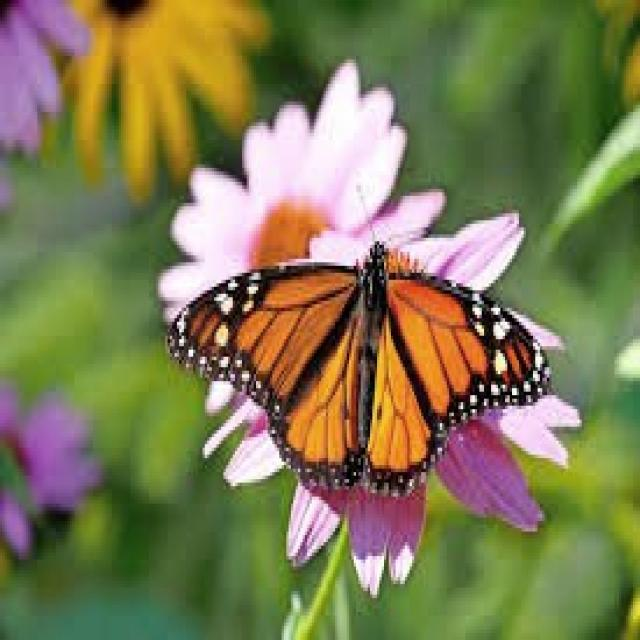butterfly: (168, 241, 547, 493)
